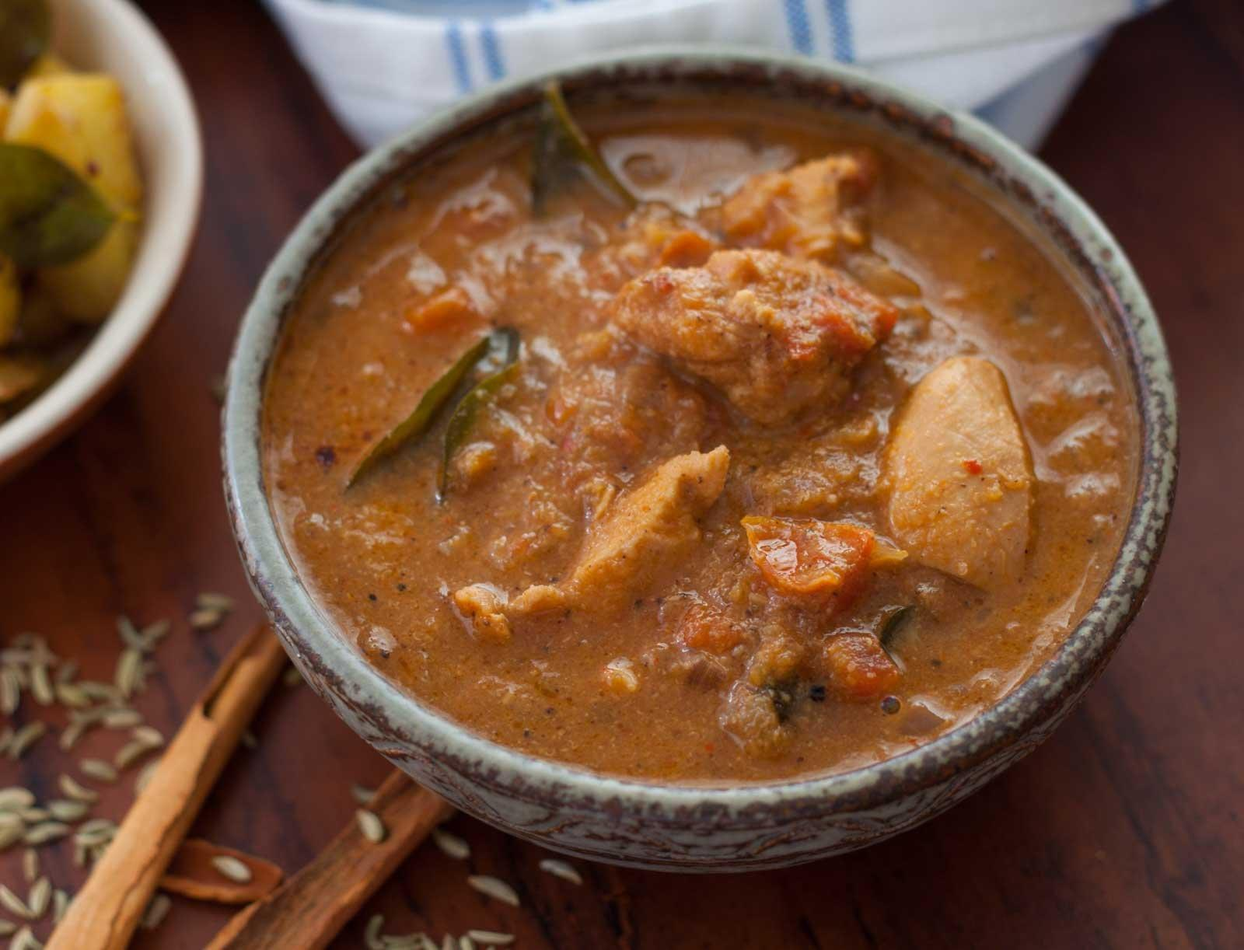chicken: (244, 97, 1215, 795)
